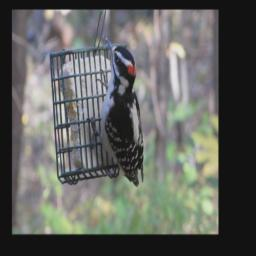Woodpecker: (87, 35, 144, 187)
